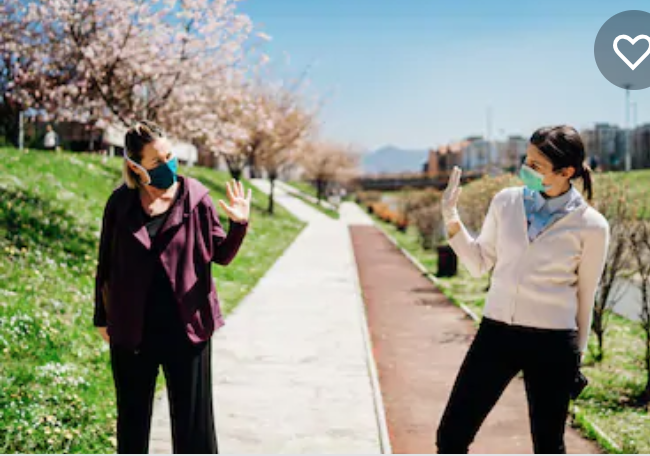Caution: (94, 119, 609, 456)
